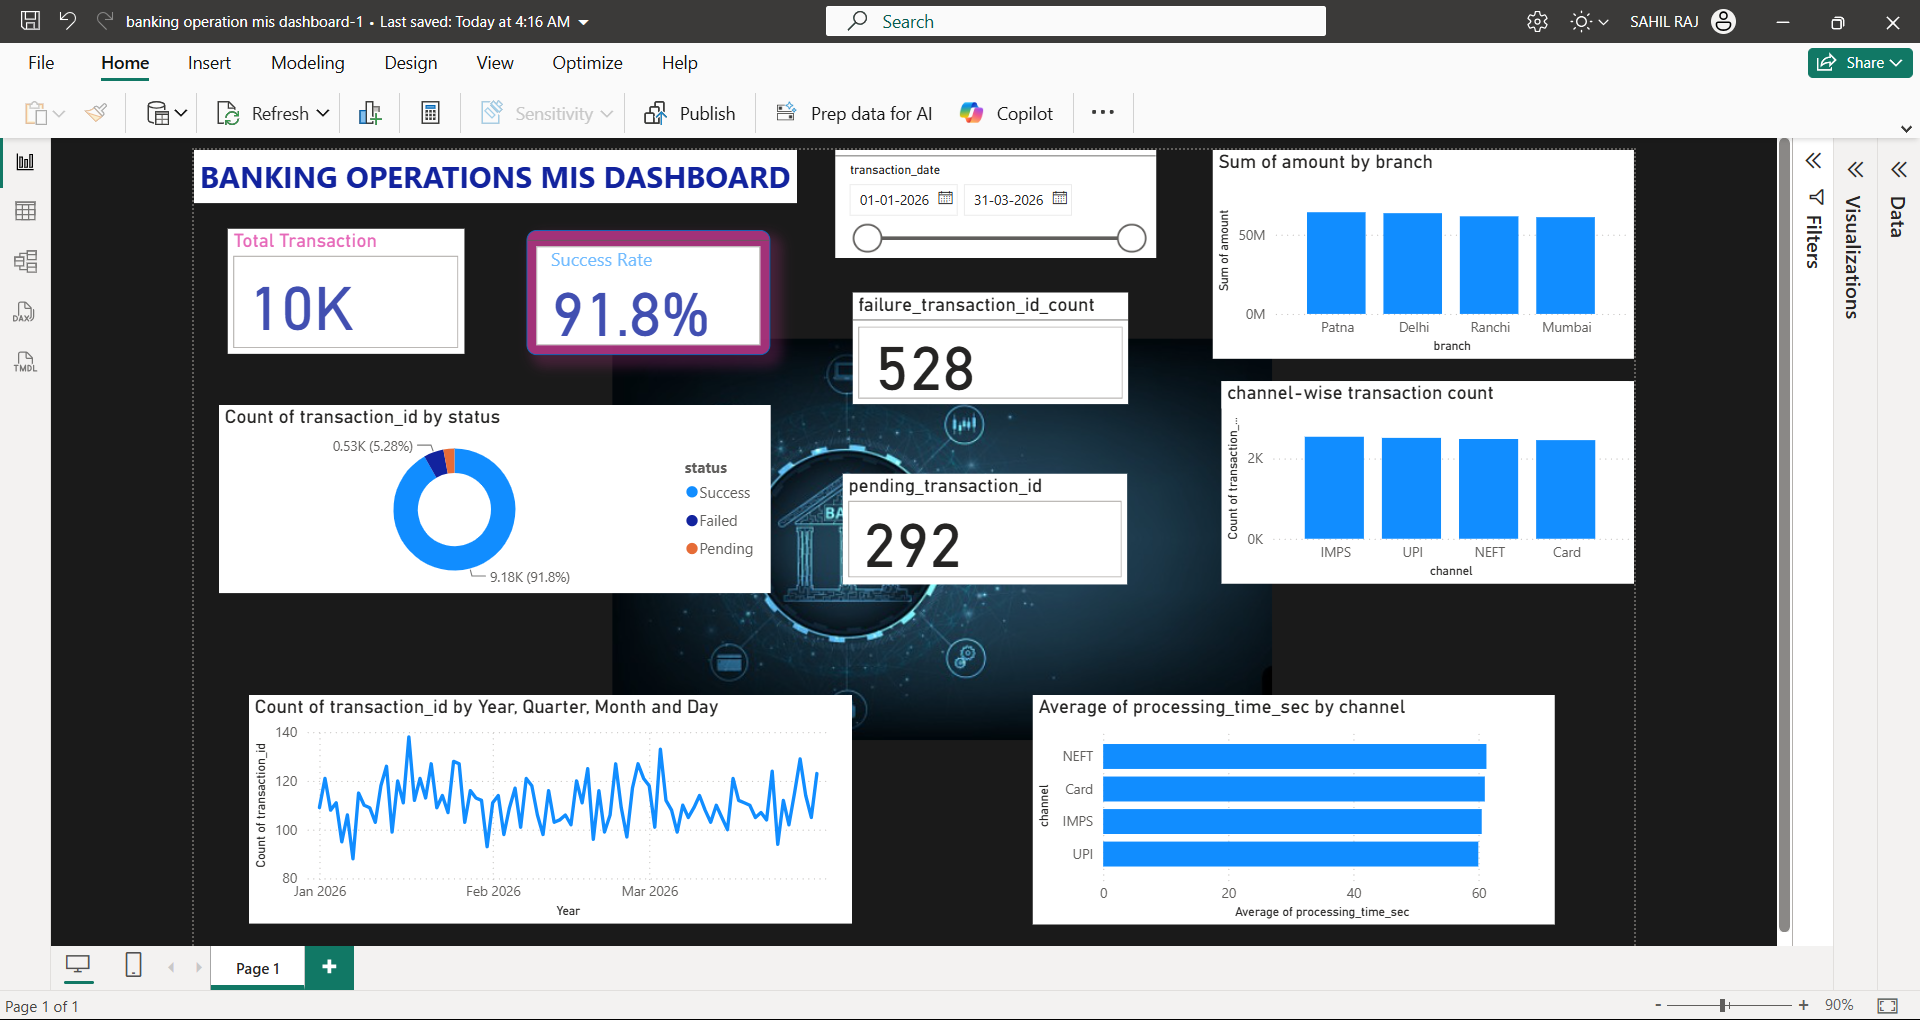

What the dashboard file says about the page in this screenshot:
{"tool":"powerbi","page":{"name":"Page 1","canvas":[1280,720],"ordinal":0},"visuals":[{"type":"cardVisual","title":"Total Transaction","fields":{"Data":["CountNonNull(transactions_for_powerbi.transaction_id)"]},"box":[29.7,70.3,210,111.4],"z":0},{"type":"cardVisual","fields":{"Data":["transactions_for_powerbi.Success Rate"]},"box":[295,71.2,217.1,111.4],"z":1000},{"type":"donutChart","fields":{"Category":["transactions_for_powerbi.status"],"Y":["CountNonNull(transactions_for_powerbi.transaction_id)"]},"box":[22.5,226.2,490,167.1],"z":2000},{"type":"clusteredColumnChart","fields":{"Category":["transactions_for_powerbi.branch"],"Y":["Sum(transactions_for_powerbi.amount)"]},"box":[905.7,0,374.3,185.7],"z":3000},{"type":"lineChart","fields":{"Category":["transactions_for_powerbi.transaction_date.Variation.Date Hierarchy.Year","transactions_for_powerbi.transaction_date.Variation.Date Hierarchy.Quarter","transactions_for_powerbi.transaction_date.Variation.Date Hierarchy.Month","transactions_for_powerbi.transaction_date.Variation.Date Hierarchy.Day"],"Y":["Count(transactions_for_powerbi.transaction_id)"]},"box":[48.9,484.2,536,203],"z":4000},{"type":"slicer","fields":{"Values":["transactions_for_powerbi.transaction_date"]},"box":[570,0,284.4,95.6],"z":5000},{"type":"clusteredColumnChart","title":"channel-wise transaction count","fields":{"Category":["transactions_for_powerbi.channel"],"Y":["CountNonNull(transactions_for_powerbi.transaction_id)"]},"box":[912.9,205.7,367.1,180],"z":6000},{"type":"textbox","box":[0,0,535.7,47.1],"z":7000},{"type":"cardVisual","title":"failure_transaction_id_count","fields":{"Data":["CountNonNull(transactions_for_powerbi.transaction_id)"]},"box":[585,127,245,99],"z":8000},{"type":"clusteredBarChart","fields":{"Category":["transactions_for_powerbi.channel"],"Y":["Avg(transactions_for_powerbi.processing_time_sec)"]},"box":[745.9,484.2,464,204],"z":9000},{"type":"cardVisual","title":"pending_transaction_id","fields":{"Data":["CountNonNull(transactions_for_powerbi.transaction_id)"]},"box":[577,288,253,98],"z":9001}]}

Visuals, with their boxes on the page's 1280x720 design canvas (x1, y1, x2, y2). These are canvas units, not pixel positions in the 1920x1020 screenshot, which may show the page scaled, cropped or inside an application window:
"Total Transaction" cardVisual: (30,70,240,182)
cardVisual - transactions_for_powerbi.Success Rate: (295,71,512,183)
donutChart - transactions_for_powerbi.status x CountNonNull(transactions_for_powerbi.transaction_id): (22,226,512,393)
clusteredColumnChart - transactions_for_powerbi.branch x Sum(transactions_for_powerbi.amount): (906,0,1280,186)
lineChart - transactions_for_powerbi.transaction_date.Variation.Date Hierarchy.Year x transactions_for_powerbi.transaction_date.Variation.Date Hierarchy.Quarter: (49,484,585,687)
slicer - transactions_for_powerbi.transaction_date: (570,0,854,96)
"channel-wise transaction count" clusteredColumnChart: (913,206,1280,386)
textbox: (0,0,536,47)
"failure_transaction_id_count" cardVisual: (585,127,830,226)
clusteredBarChart - transactions_for_powerbi.channel x Avg(transactions_for_powerbi.processing_time_sec): (746,484,1210,688)
"pending_transaction_id" cardVisual: (577,288,830,386)
